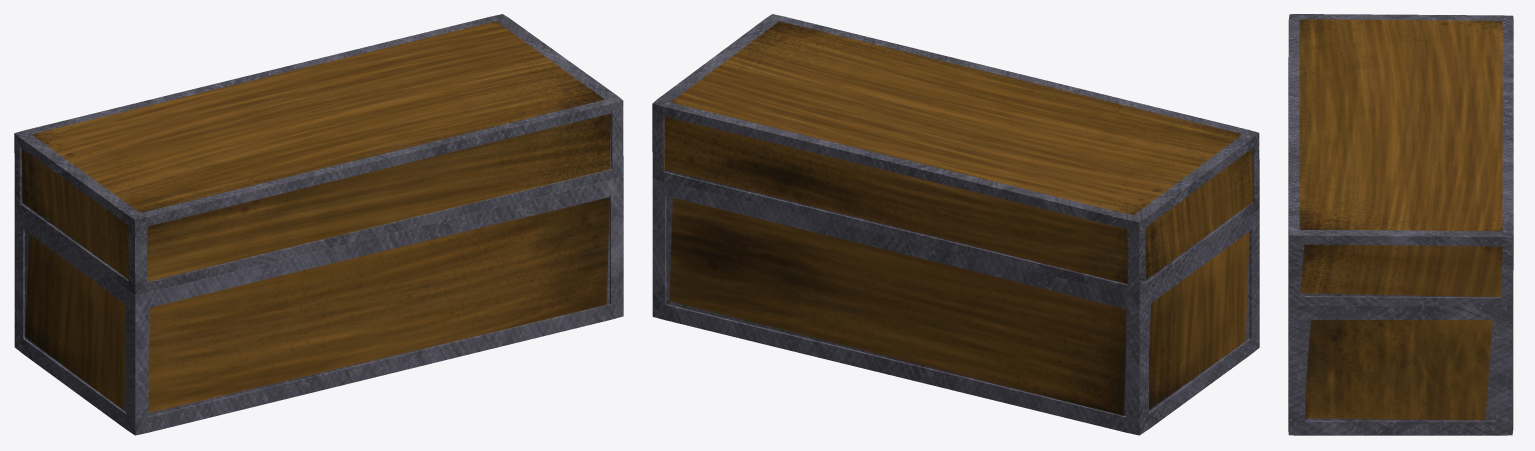
The model's file is COFRE.fbx.
The picture shows the model from 3 angles, left to right: view 1: azimuth 30°, elevation 25°; view 2: azimuth 150°, elevation 25°; view 3: azimuth 270°, elevation 25°; orthographic projection. The views are drawn at different scales.
Parts seen in each view (by area): view 1: TapaArriba, TapaAbajo; view 2: TapaArriba, TapaAbajo; view 3: TapaArriba, TapaAbajo.
Boxes of the visible parts, x1,y1,x2,y2 form: TapaArriba: [14, 14, 623, 295]; TapaAbajo: [14, 176, 623, 435]; TapaArriba: [652, 14, 1259, 297]; TapaAbajo: [652, 178, 1259, 435]; TapaArriba: [1288, 14, 1513, 307]; TapaAbajo: [1288, 302, 1513, 435].
Bounding box in the file's own units: 476 × 203 × 211.
1 material, 1 textured.
